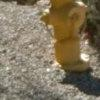Hydrant: (34, 3, 96, 87)
